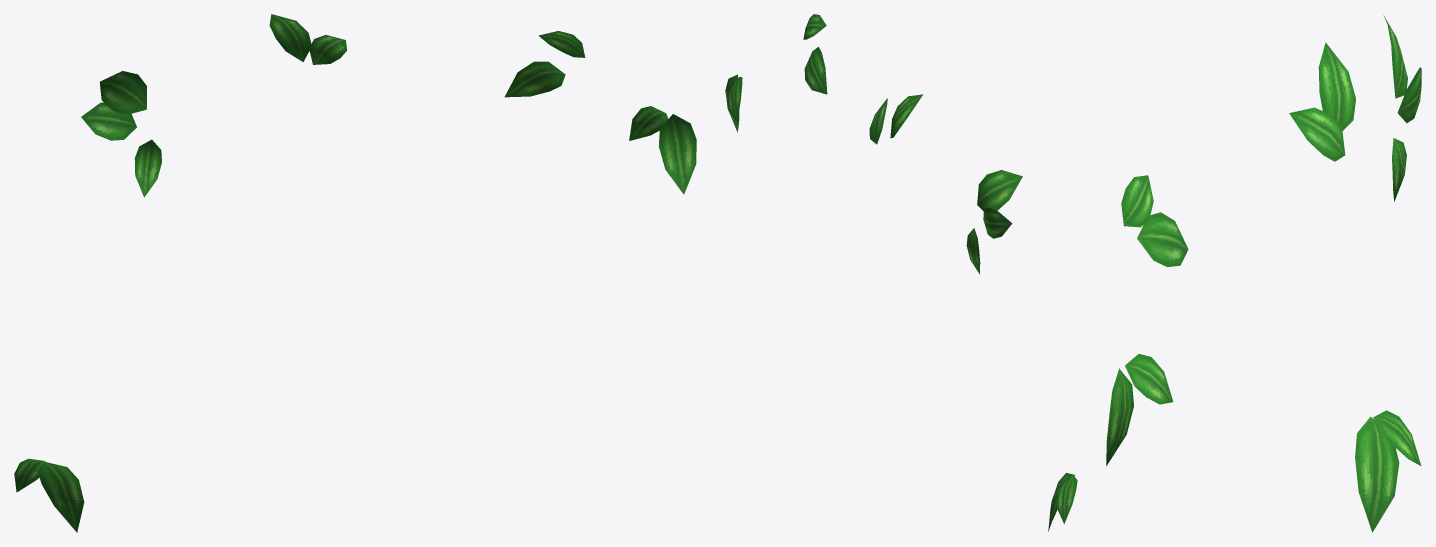
File: EKH_BARRELROOM_PS_JA1_LEAVES039387.fbx
3 views of the same model, side by side, from view 1: azimuth 30°, elevation 25°; view 2: azimuth 150°, elevation 25°; view 3: azimuth 270°, elevation 25° (orthographic). The views are drawn at different scales.
Visible parts, largest first — view 1: EKH_BARRELROOM_PS_JA1_LEAVES039387; view 2: EKH_BARRELROOM_PS_JA1_LEAVES039387; view 3: EKH_BARRELROOM_PS_JA1_LEAVES039387.
Boxes of the visible parts, bbox=[...] form: EKH_BARRELROOM_PS_JA1_LEAVES039387: bbox=[14, 14, 696, 532]; EKH_BARRELROOM_PS_JA1_LEAVES039387: bbox=[725, 14, 1077, 531]; EKH_BARRELROOM_PS_JA1_LEAVES039387: bbox=[1106, 15, 1421, 532].
Bounding box in the file's own units: 23578 × 19813 × 9536.
1 material, 1 textured.
